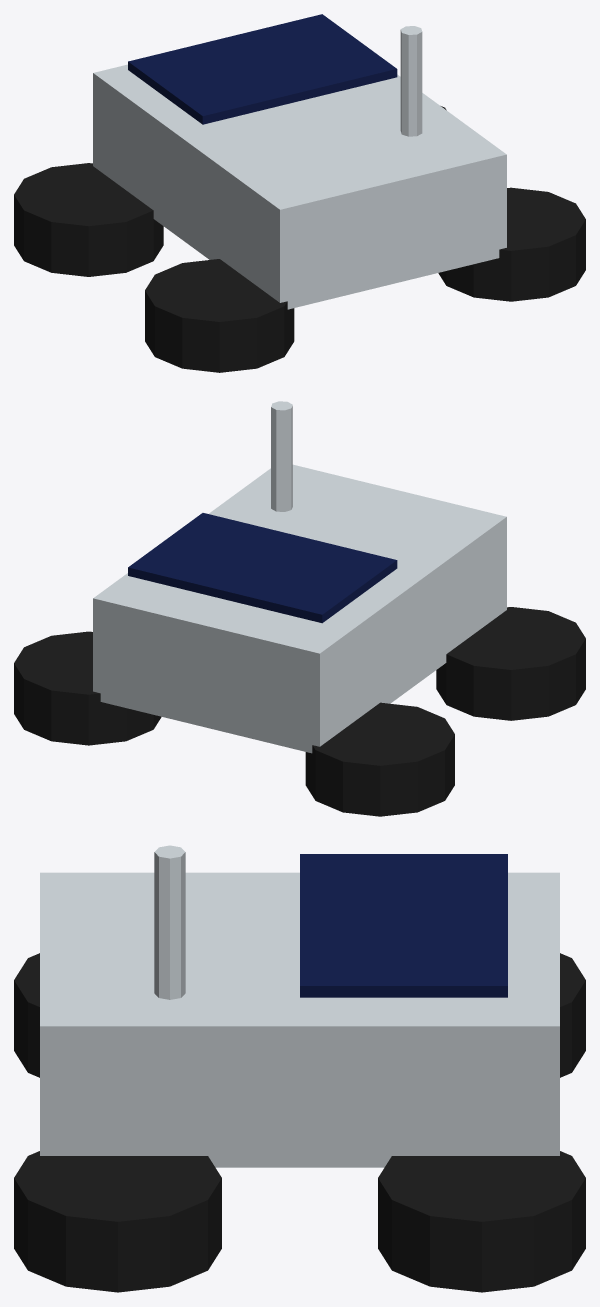
File: lunar_rover.obj
3 views of the same model, one above another, from view 1: azimuth 30°, elevation 25°; view 2: azimuth 150°, elevation 25°; view 3: azimuth 270°, elevation 25° (orthographic). The views are drawn at different scales.
Parts seen in each view (by area): view 1: LunarRover; view 2: LunarRover; view 3: LunarRover.
Boxes of the visible parts, bbox=[...] form: LunarRover: bbox=[14, 14, 585, 372]; LunarRover: bbox=[14, 401, 585, 816]; LunarRover: bbox=[14, 845, 585, 1292].
Bounding box in the file's own units: 2.6 × 1.45 × 2.2.
